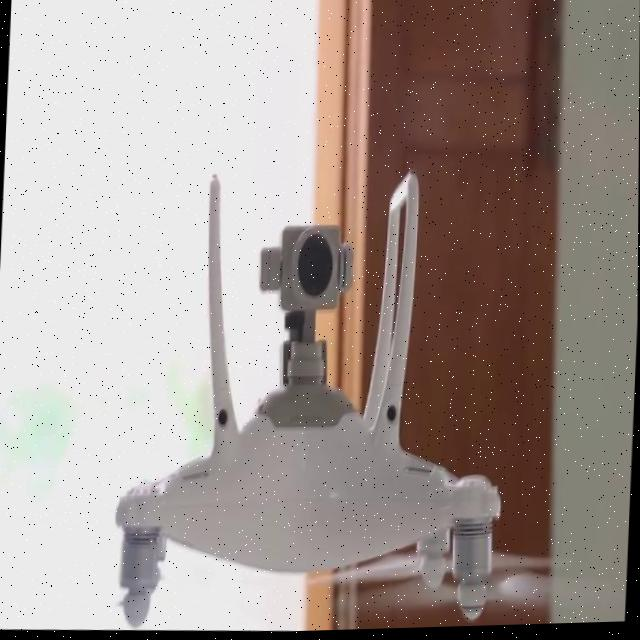drones: (65, 101, 639, 638)
